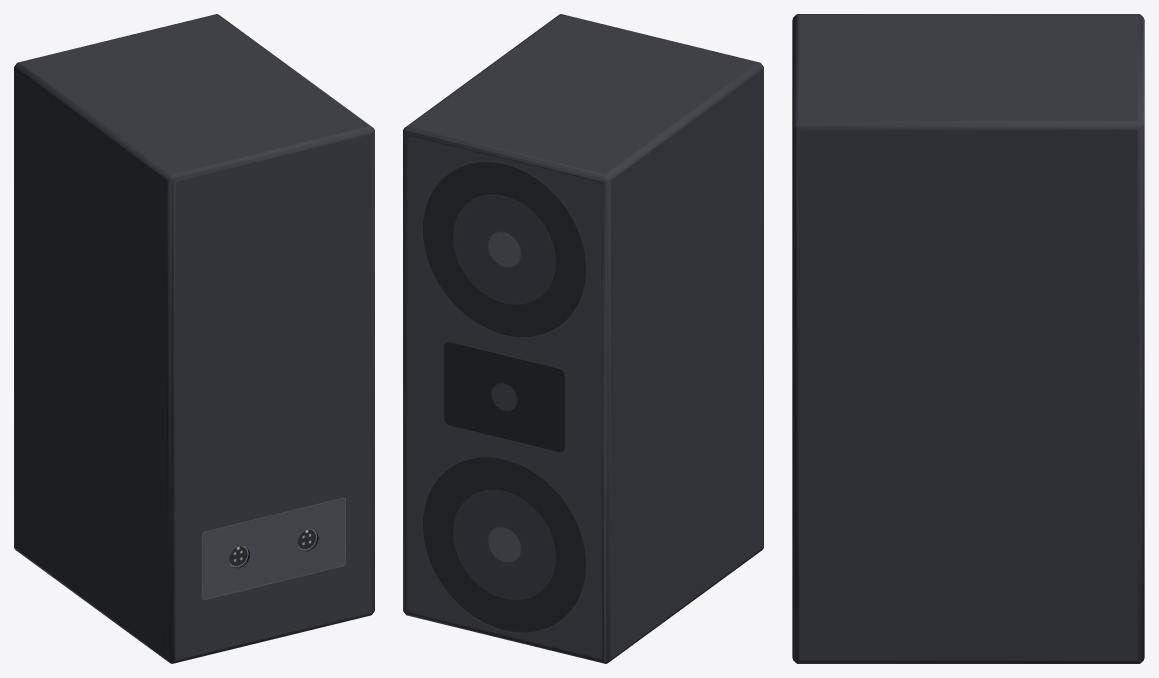
The model's file is db-audiotechnik-y10p.glb.
3 views of the same model, side by side, from view 1: azimuth 30°, elevation 25°; view 2: azimuth 150°, elevation 25°; view 3: azimuth 270°, elevation 25° (orthographic). The views are drawn at different scales.
Visible parts, largest first — view 1: db-audiotechnik-y10p-body; view 2: db-audiotechnik-y10p-body; view 3: db-audiotechnik-y10p-body.
Boxes of the visible parts, x1,y1,x2,y2 form: db-audiotechnik-y10p-body: (14, 14, 374, 663); db-audiotechnik-y10p-body: (403, 14, 763, 663); db-audiotechnik-y10p-body: (792, 14, 1144, 663).
Size of the model in its own units: 0.257 by 0.58 by 0.341.
1 material, 1 textured.
